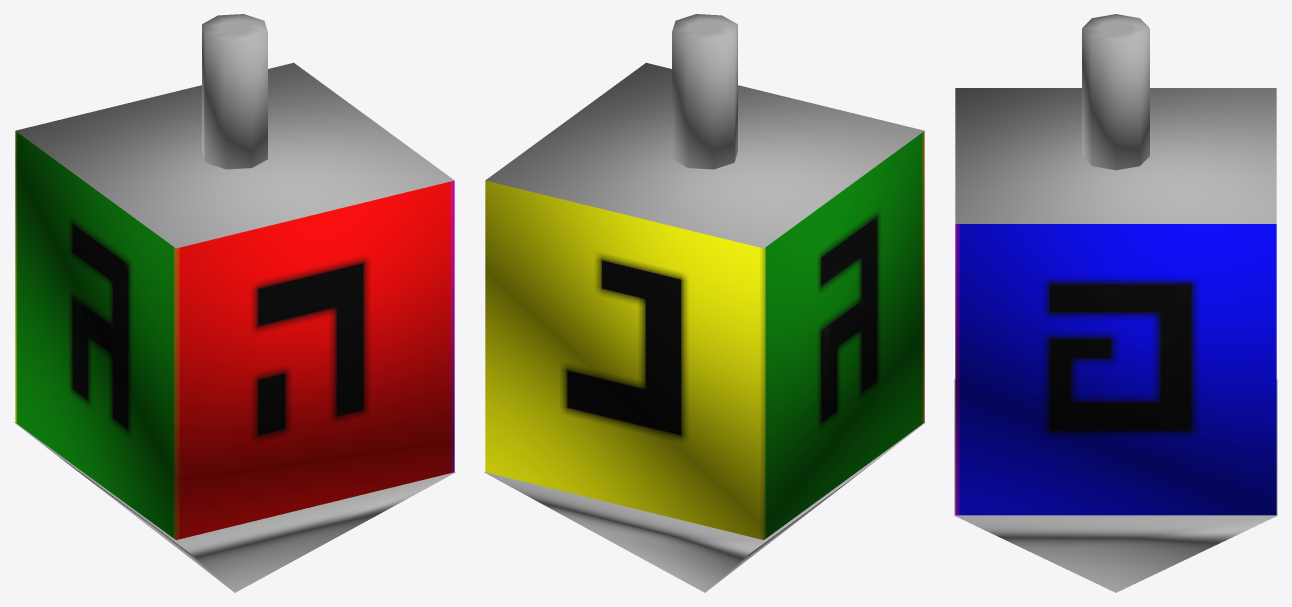
Rendered from dreidel.fbx.
3 renders of one model, left to right at view 1: azimuth 30°, elevation 25°; view 2: azimuth 150°, elevation 25°; view 3: azimuth 270°, elevation 25°, orthographic.
Parts seen in each view (by area): view 1: cube, cone, cylinder; view 2: cube, cone, cylinder; view 3: cube, cone, cylinder.
Part boxes in pixels (box(x1,y1,x2,y2)): cube: box(15, 62, 454, 539); cone: box(14, 422, 455, 592); cylinder: box(202, 14, 267, 169); cube: box(485, 62, 924, 539); cone: box(484, 422, 925, 592); cylinder: box(672, 14, 737, 169); cube: box(955, 88, 1276, 515); cone: box(954, 379, 1277, 592); cylinder: box(1082, 14, 1149, 170).
Bounding box in the file's own units: 1.35 × 2.61 × 1.35.
4 materials, 1 textured.
